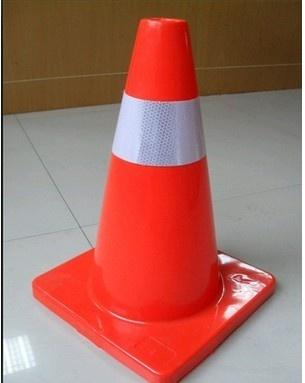cone_barrel: (83, 18, 232, 329)
